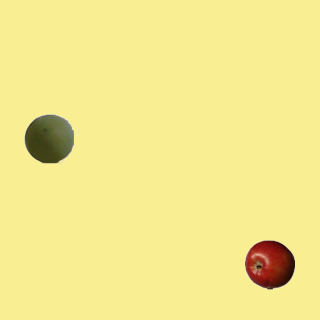Apple Braeburn: (244, 239, 294, 289)
Grape White 4: (23, 113, 73, 163)
